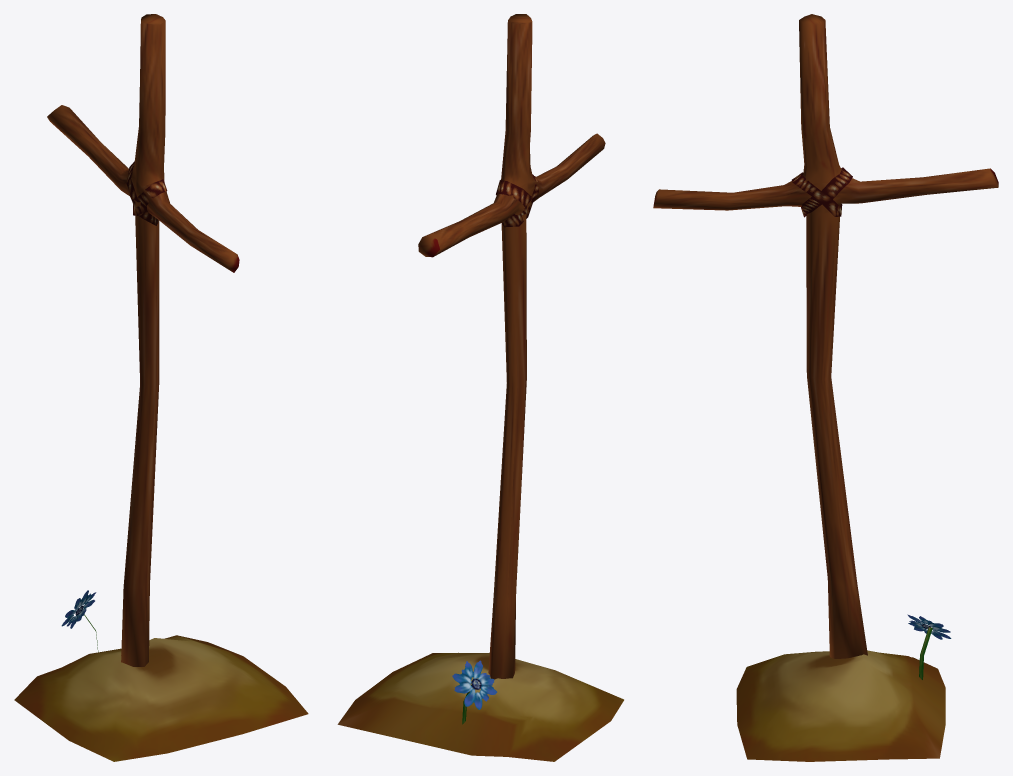
Rendered from grave6.fbx.
The picture shows the model from 3 angles, left to right: view 1: azimuth 30°, elevation 25°; view 2: azimuth 150°, elevation 25°; view 3: azimuth 270°, elevation 25°; orthographic projection. The views are drawn at different scales.
Visible parts, largest first — view 1: Grave_Mesh; view 2: Grave_Mesh; view 3: Grave_Mesh.
Boxes of the visible parts, box(x1,y1,x2,y2) form: Grave_Mesh: box(14, 14, 308, 761); Grave_Mesh: box(337, 14, 623, 761); Grave_Mesh: box(653, 14, 998, 761).
Bounding box in the file's own units: 453 × 1380 × 634.
